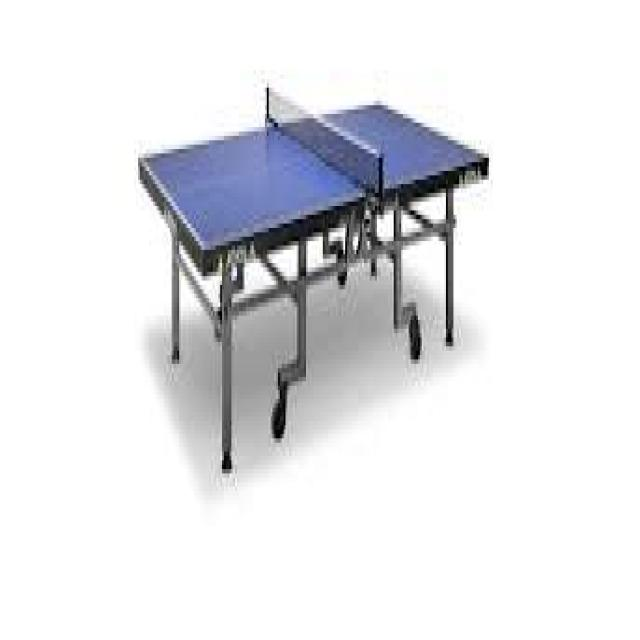TT Net: (263, 77, 383, 207)
TT Table: (141, 102, 485, 239)
